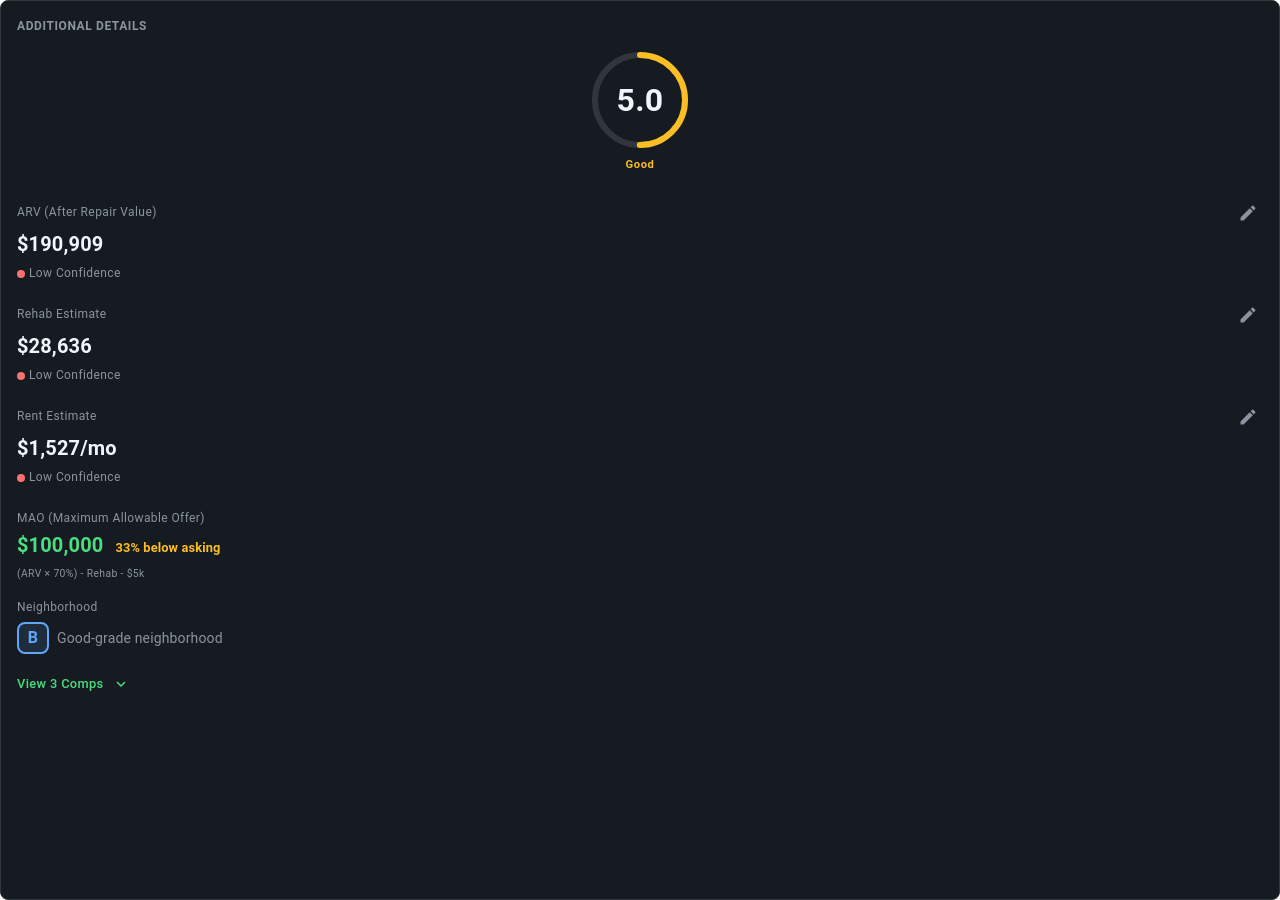
Test case: EvaluationSection › inline editing › should enter edit mode when ARV edit button is clicked
Click the button named "Edit ARV": (1248,213) [1233,198,1263,228]
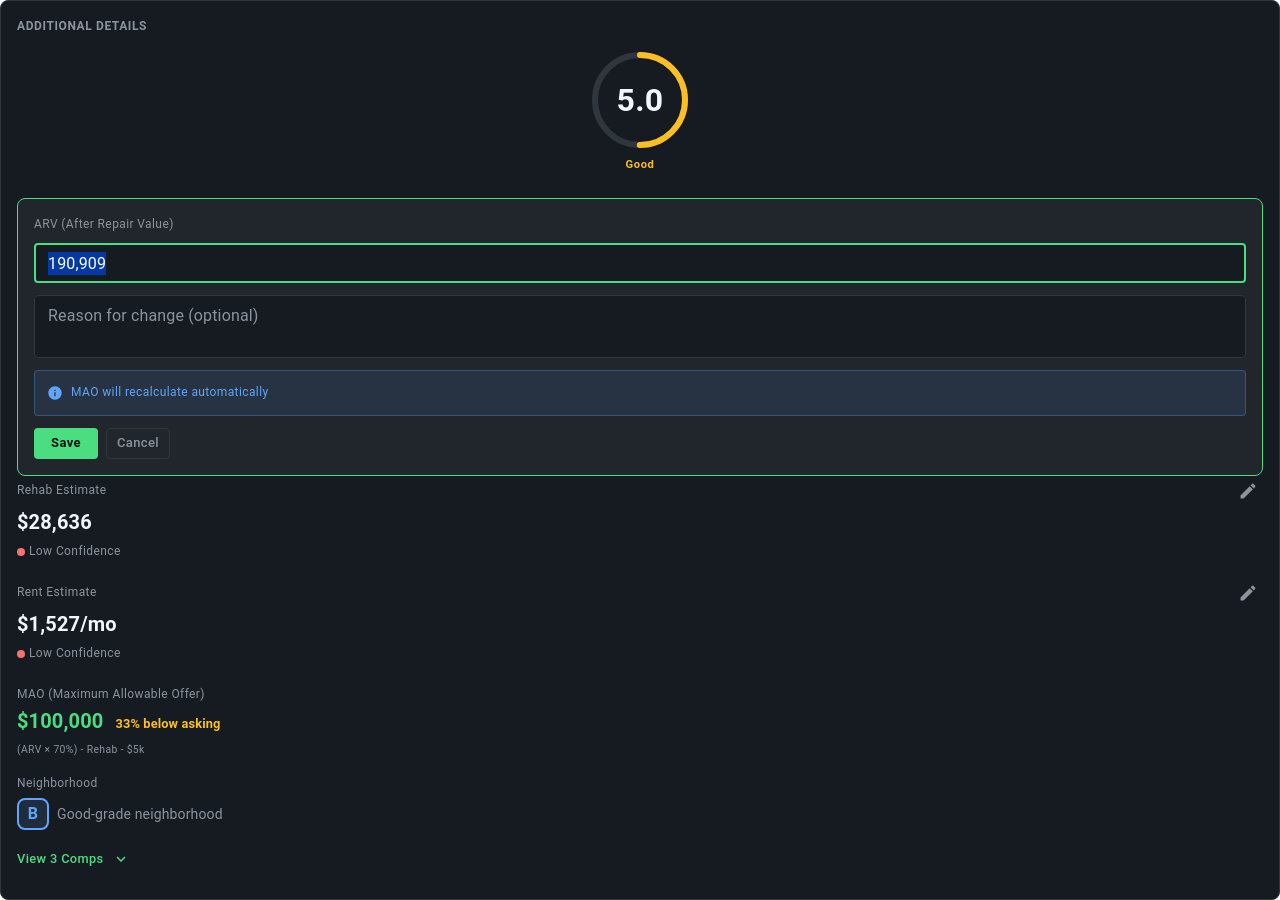
Check: the button "Save" is shown, box [34,428,98,459]
Check: the button "Cancel" is shown, box [106,428,170,459]
